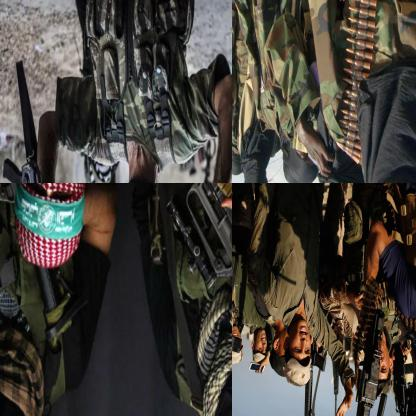rifle: (139, 183, 231, 360), (0, 183, 89, 352), (0, 64, 72, 182), (331, 306, 387, 415), (232, 245, 245, 415), (302, 350, 328, 415)
